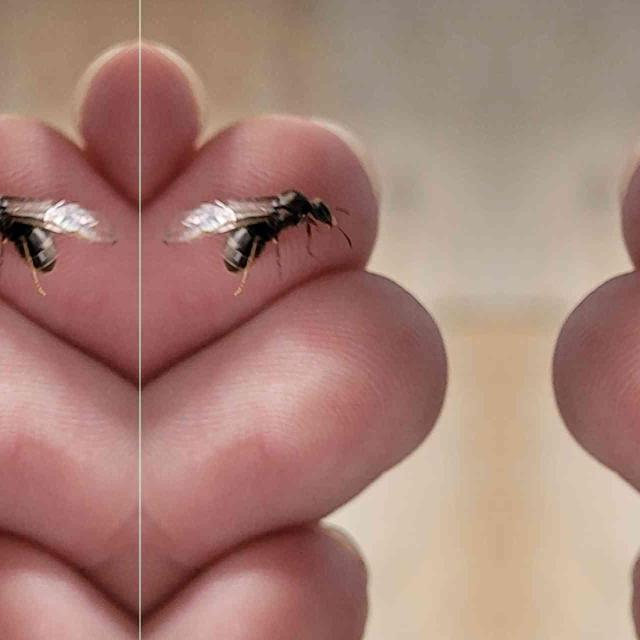Lasius: (196, 180, 344, 286), (0, 179, 82, 284)
